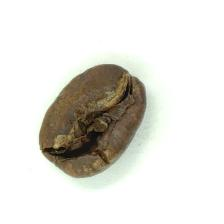NG: (55, 87, 124, 159)
